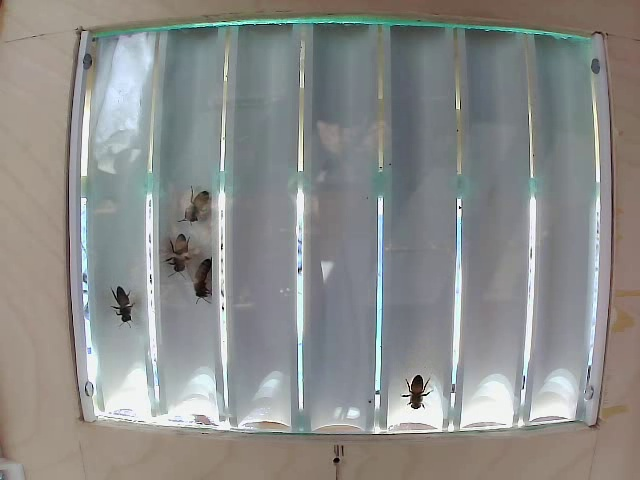bee: (188, 255, 238, 313), (102, 270, 148, 329), (185, 178, 221, 226), (403, 367, 438, 416), (166, 235, 203, 281)
